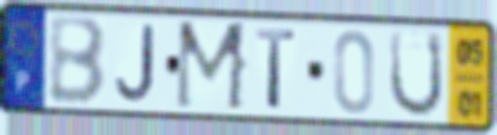0: (332, 27, 376, 117)
B: (46, 15, 109, 108)
J: (113, 23, 158, 105)
M: (173, 18, 250, 115)
T: (254, 25, 299, 112)
U: (387, 28, 446, 121)
